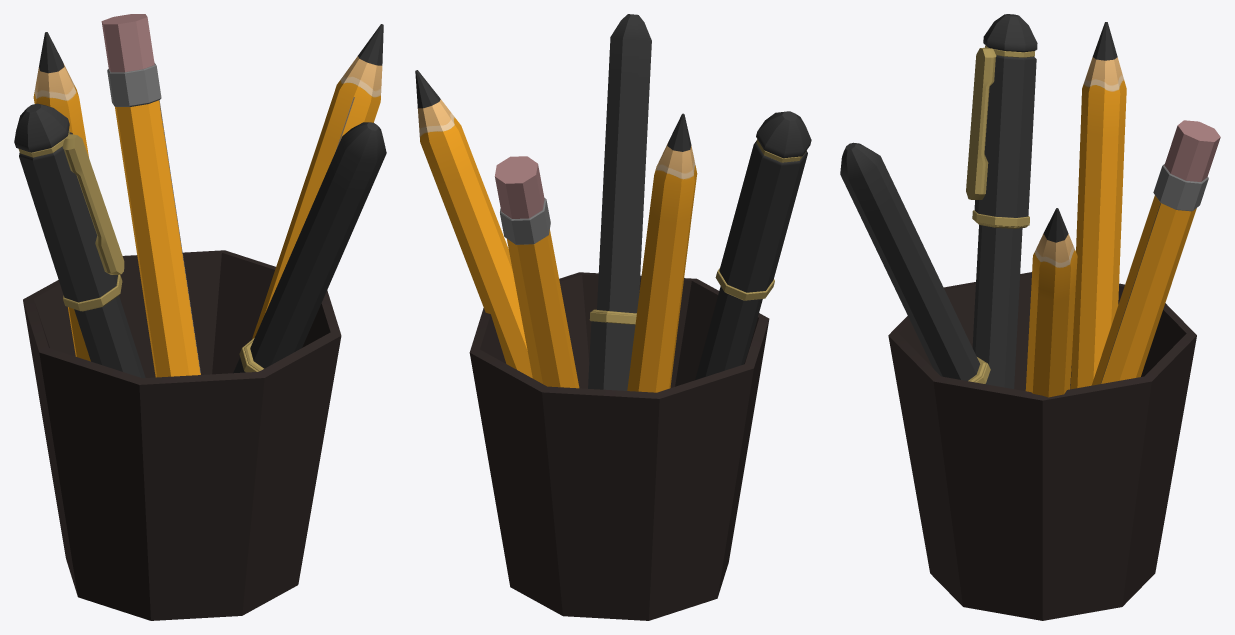
The model's file is pencil_holder.fbx.
The picture shows the model from 3 angles, left to right: view 1: azimuth 30°, elevation 25°; view 2: azimuth 150°, elevation 25°; view 3: azimuth 270°, elevation 25°; orthographic projection. The views are drawn at different scales.
Parts seen in each view (by area): view 1: pne_holder, pen6, pen1, pen2, pen7, pen5; view 2: pne_holder, pen2, pen1, pen7, pen5, pen6; view 3: pne_holder, pen1, pen5, pen6, pen2, pen7.
Part boxes in pixels (x1,y1,x2,y2): pne_holder: (23, 250, 341, 620); pen6: (101, 14, 200, 377); pen1: (14, 103, 145, 378); pen2: (233, 122, 386, 373); pen7: (252, 24, 383, 339); pen5: (33, 32, 90, 361); pne_holder: (469, 272, 769, 620); pen2: (588, 14, 651, 390); pen1: (695, 111, 811, 380); pen7: (415, 70, 532, 378); pen5: (627, 113, 697, 392); pen6: (494, 156, 579, 388); pne_holder: (888, 272, 1196, 620); pen1: (966, 14, 1037, 388); pen5: (1070, 22, 1126, 389); pen6: (1091, 120, 1220, 385); pen2: (840, 142, 996, 385); pen7: (1025, 208, 1077, 397).
Bounding box in the file's own units: 25.63 × 33.77 × 23.07.
